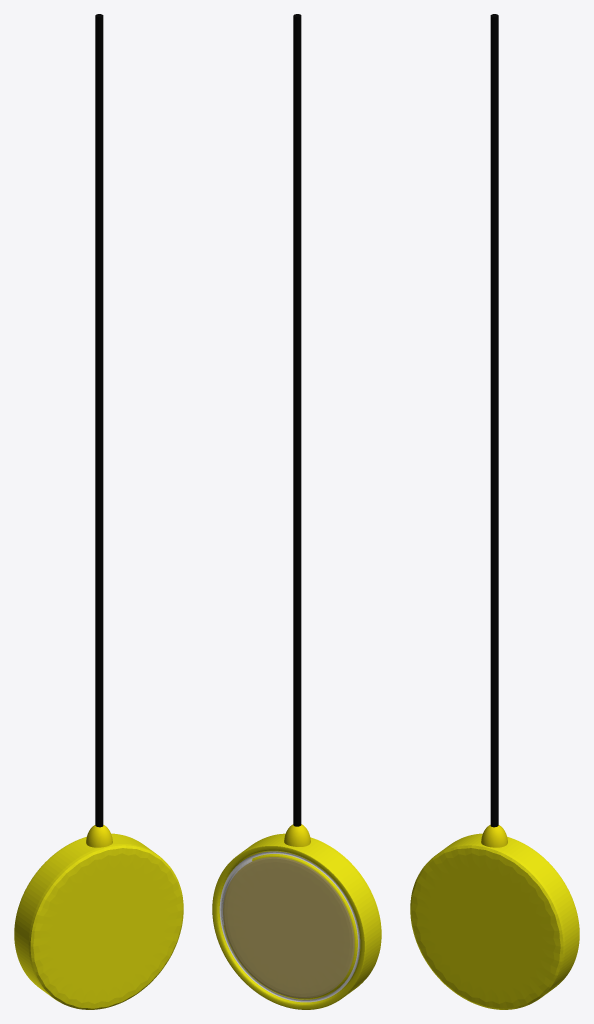
File: Bighuriko.fbx
3 views of the same model, side by side, from view 1: azimuth 30°, elevation 25°; view 2: azimuth 150°, elevation 25°; view 3: azimuth 330°, elevation 25° (orthographic).
Visible parts, largest first — view 1: 円柱, 円柱.001, 球; view 2: 円柱, 円柱.001, 球; view 3: 円柱, 円柱.001, 球.
Boxes of the visible parts, left/top/right/bottom form: 円柱: left=14, top=833, right=183, bottom=1009; 円柱.001: left=95, top=14, right=103, bottom=827; 球: left=86, top=825, right=112, bottom=847; 円柱: left=212, top=833, right=381, bottom=1009; 円柱.001: left=293, top=14, right=301, bottom=826; 球: left=284, top=824, right=310, bottom=846; 円柱: left=410, top=833, right=579, bottom=1009; 円柱.001: left=490, top=14, right=498, bottom=827; 球: left=481, top=825, right=507, bottom=847.
Size of the model in its own units: 199 by 1219 by 40.16.
